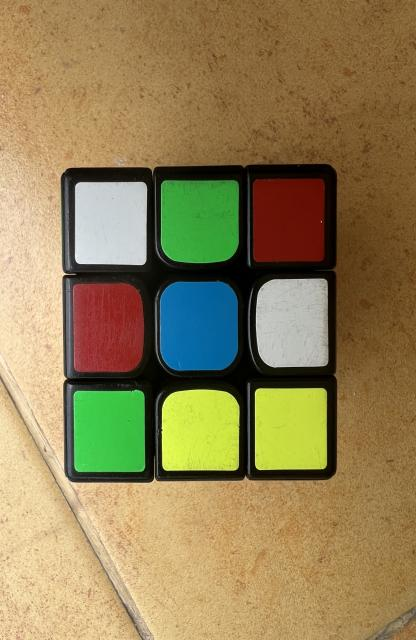Blue: (159, 281, 238, 371)
Green: (160, 180, 239, 264), (74, 390, 145, 472)
Red: (73, 282, 144, 372), (252, 179, 325, 262)
White: (256, 279, 328, 368), (75, 181, 147, 265)
Yellow: (161, 389, 239, 471), (255, 388, 327, 470)
